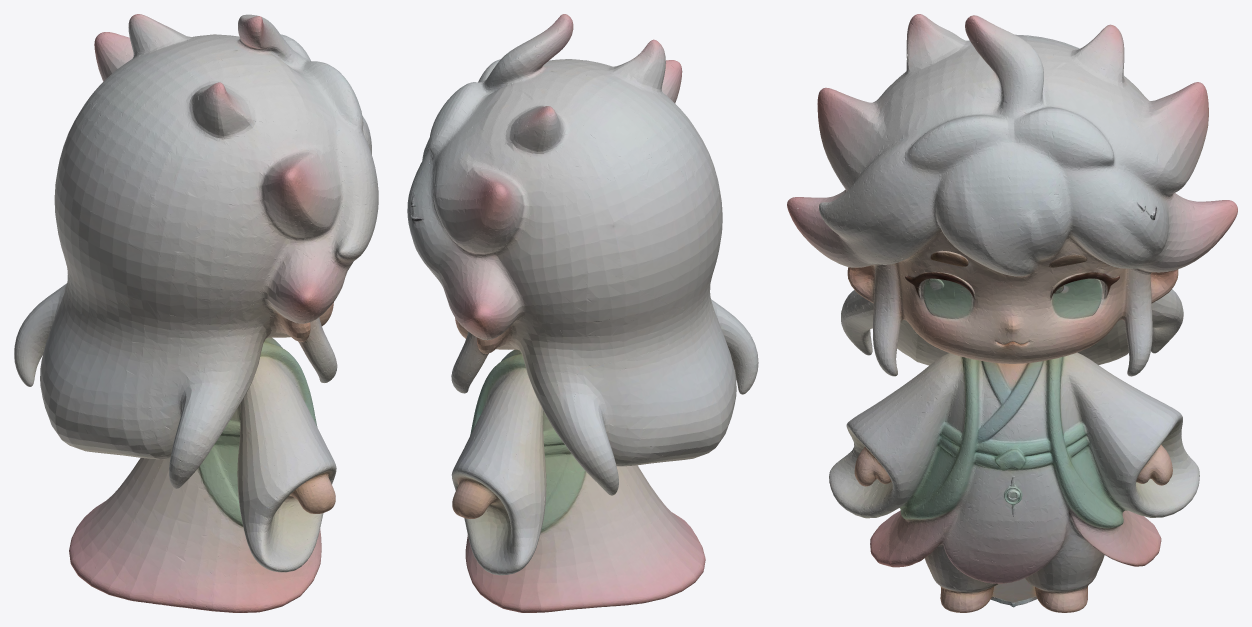
The picture shows the model from 3 angles, left to right: view 1: azimuth 30°, elevation 25°; view 2: azimuth 150°, elevation 25°; view 3: azimuth 270°, elevation 25°; orthographic projection. The views are drawn at different scales.
Parts seen in each view (by area): view 1: tripo_node_0ab710bc-c608-481e-8b54-3ca776431e55; view 2: tripo_node_0ab710bc-c608-481e-8b54-3ca776431e55; view 3: tripo_node_0ab710bc-c608-481e-8b54-3ca776431e55.
Boxes of the visible parts, x1=… form: tripo_node_0ab710bc-c608-481e-8b54-3ca776431e55: x1=14, y1=14, x2=378, y2=612; tripo_node_0ab710bc-c608-481e-8b54-3ca776431e55: x1=407, y1=14, x2=758, y2=612; tripo_node_0ab710bc-c608-481e-8b54-3ca776431e55: x1=787, y1=14, x2=1237, y2=612.
Size of the model in its own units: 0.5395 by 0.9999 by 0.6962.
1 material, 1 textured.
